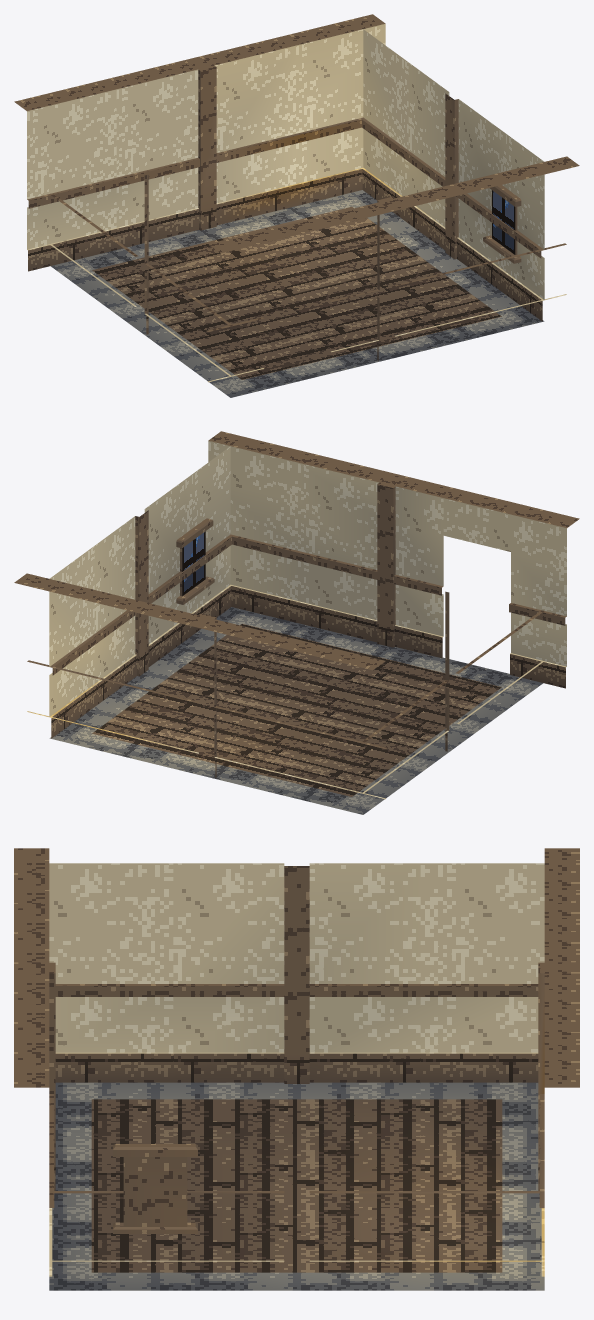
The model's file is vlg.room__cottage.glb.
3 renders of one model, top to bottom at view 1: azimuth 30°, elevation 25°; view 2: azimuth 150°, elevation 25°; view 3: azimuth 270°, elevation 25°, orthographic. The views are drawn at different scales.
Parts seen in each view (by area): view 1: kit_shell_walls, kit_shell_floor, kit_fittings; view 2: kit_shell_walls, kit_shell_floor, kit_fittings; view 3: kit_shell_walls, kit_shell_floor, kit_fittings.
Part boxes in pixels (left/top/right/bottom): kit_shell_walls: left=14, top=14, right=579, bottom=382; kit_shell_floor: left=50, top=190, right=544, bottom=397; kit_fittings: left=483, top=185, right=521, bottom=263; kit_shell_walls: left=14, top=431, right=579, bottom=799; kit_shell_floor: left=49, top=607, right=543, bottom=814; kit_fittings: left=176, top=518, right=214, bottom=604; kit_shell_walls: left=14, top=848, right=579, bottom=1276; kit_shell_floor: left=49, top=1082, right=544, bottom=1290; kit_fittings: left=113, top=1144, right=197, bottom=1233.
Bounding box in the file's own units: 8 × 3.4 × 8.
Materials: 6 (6 with a texture image).
